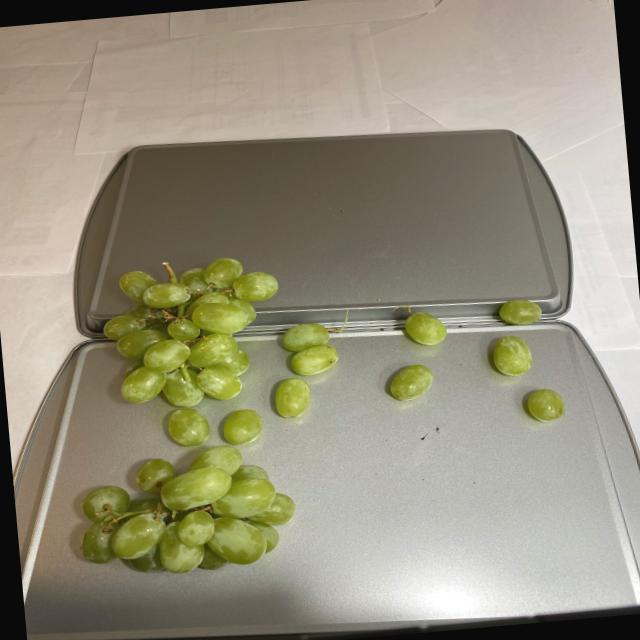grapes: (51, 246, 351, 578), (378, 294, 562, 426)
